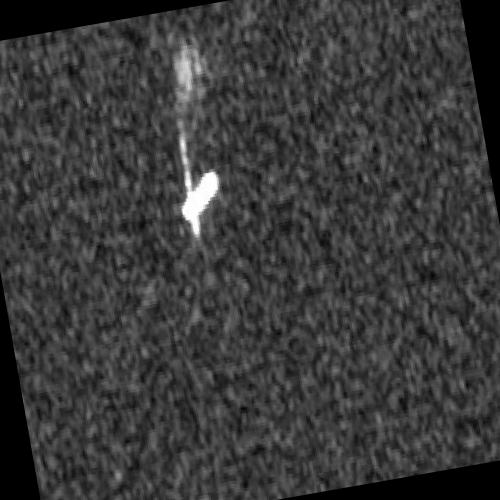ship: (182, 170, 219, 222)
